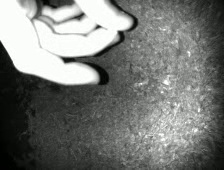corn: (105, 25, 119, 37)
